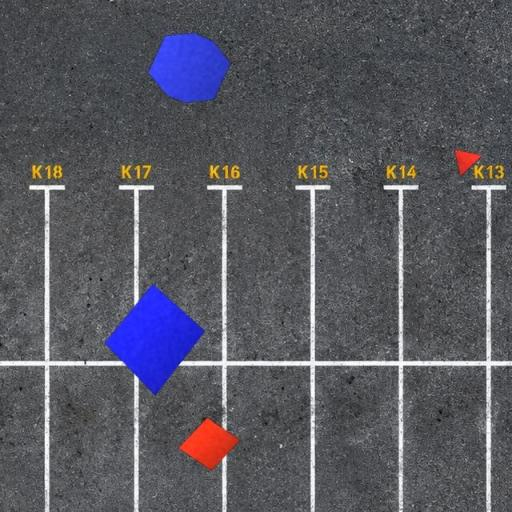BLUE_SQUARE: (104, 283, 206, 396)
RED_SQUARE: (178, 417, 240, 471)
